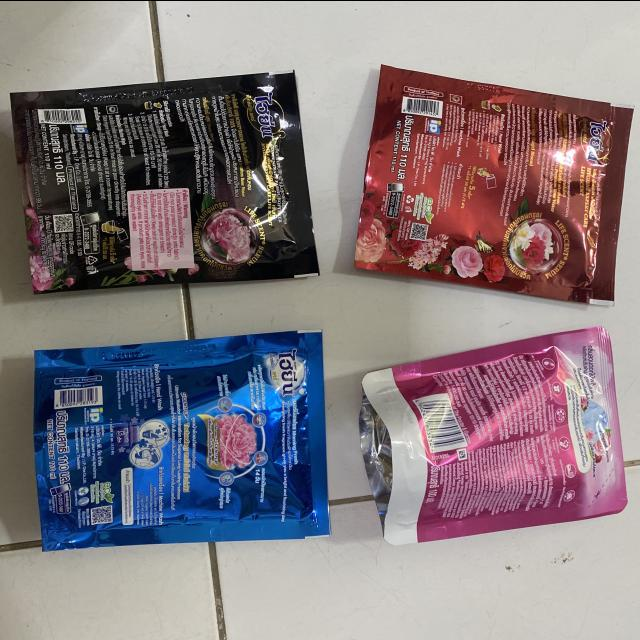plastik: (11, 70, 319, 292), (354, 64, 633, 304), (34, 330, 331, 550), (361, 326, 628, 544)
